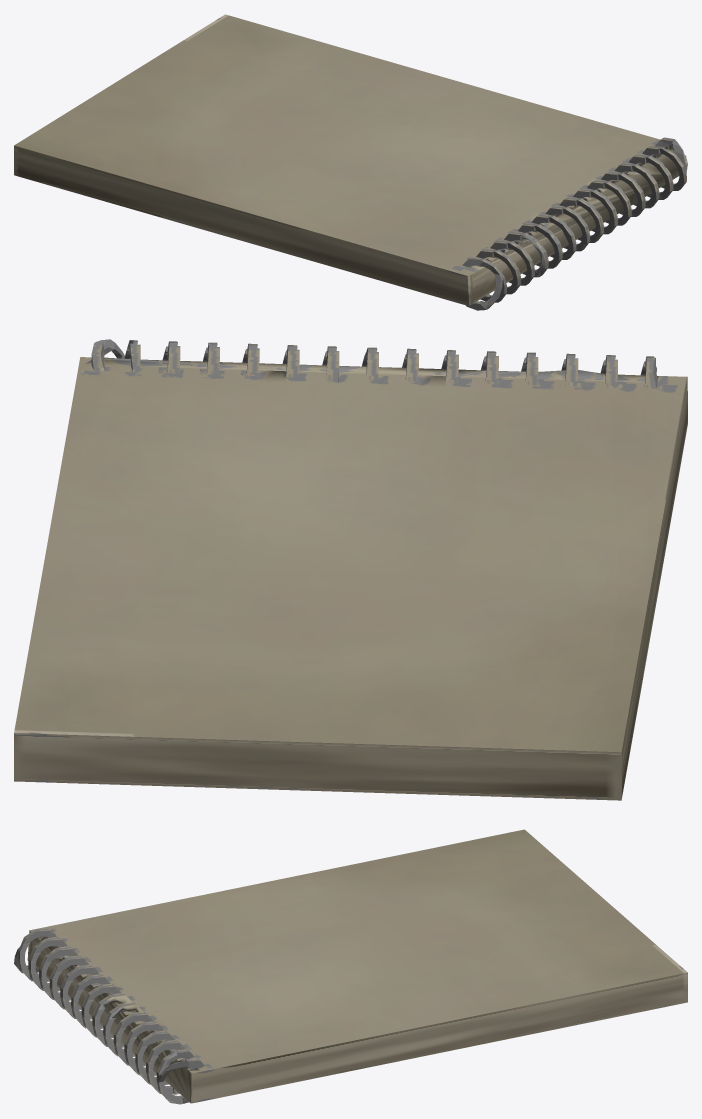
File: Notepad.fbx
3 renders of one model, top to bottom at view 1: azimuth 30°, elevation 25°; view 2: azimuth 150°, elevation 25°; view 3: azimuth 270°, elevation 25°, orthographic. The views are drawn at different scales.
Parts seen in each view (by area): view 1: Export notepad; view 2: Export notepad; view 3: Export notepad.
Part boxes in pixels (x1,y1,x2,y2): Export notepad: (14,14,687,310); Export notepad: (14,339,687,800); Export notepad: (14,829,687,1104).
Bounding box in the file's own units: 15.88 × 1.41 × 18.5.
